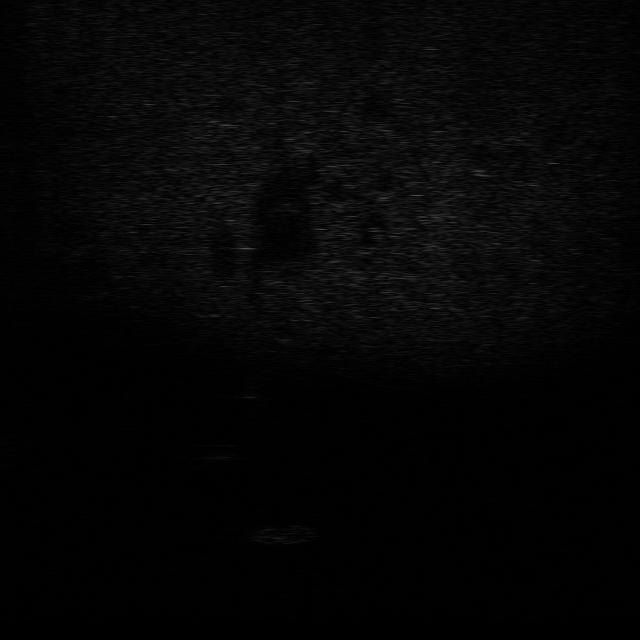ball: (198, 437, 244, 466)
circle cage: (249, 520, 320, 548)
human body: (230, 362, 275, 419)
